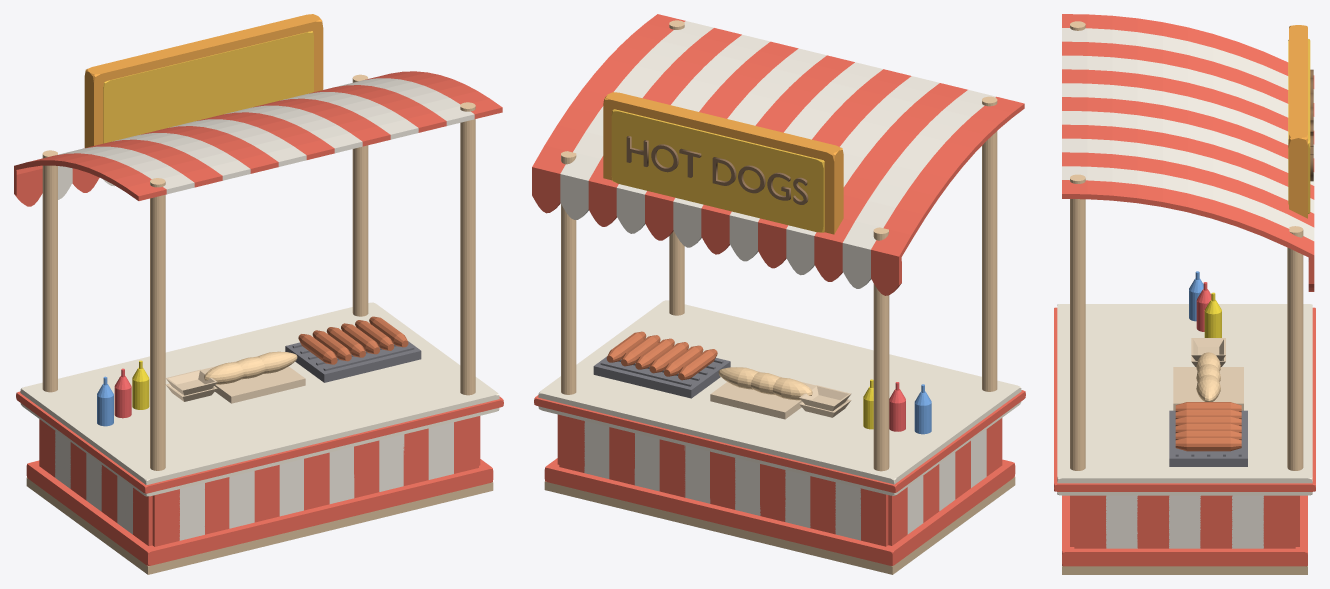
The model's file is 33-hot-dog-stand-hd11.glb.
3 renders of one model, left to right at view 1: azimuth 30°, elevation 25°; view 2: azimuth 150°, elevation 25°; view 3: azimuth 270°, elevation 25°, orthographic.
Parts seen in each view (by area): view 1: Countertop, Canopy, SignPlate, BaseTrim, SignFrame, CounterRim, Post_3, Post_2, BasePlate, Post_0, Post_1, GrillTray (+23 smaller); view 2: Canopy, Countertop, SignPlate, BaseTrim, SignFrame, CounterRim, BasePlate, Post_2, Post_0, Post_1, SignText, GrillTray (+25 smaller); view 3: Canopy, Countertop, BaseTrim, Post_3, Post_1, CounterRim, SignFrame, BasePlate, BunTray, GrillTray, Skirt_right_0, Skirt_right_2 (+16 smaller).
Part boxes in pixels (left/top/right/bottom): Countertop: left=20, top=302, right=499, bottom=496; Canopy: left=14, top=71, right=502, bottom=206; SignPlate: left=103, top=31, right=313, bottom=143; BaseTrim: left=26, top=459, right=493, bottom=565; SignFrame: left=84, top=14, right=323, bottom=147; CounterRim: left=16, top=391, right=503, bottom=493; Post_3: left=460, top=102, right=475, bottom=395; Post_2: left=150, top=178, right=165, bottom=470; BasePlate: left=26, top=478, right=493, bottom=574; Post_0: left=42, top=150, right=57, bottom=392; Post_1: left=352, top=74, right=368, bottom=316; GrillTray: left=285, top=341, right=421, bottom=382; Canopy: left=532, top=14, right=1024, bottom=295; Countertop: left=538, top=300, right=1021, bottom=495; SignPlate: left=611, top=109, right=824, bottom=232; BaseTrim: left=544, top=458, right=1015, bottom=565; SignFrame: left=603, top=92, right=843, bottom=234; CounterRim: left=534, top=390, right=1025, bottom=492; BasePlate: left=544, top=477, right=1015, bottom=574; Post_2: left=982, top=96, right=997, bottom=391; Post_0: left=873, top=227, right=889, bottom=471; Post_1: left=561, top=151, right=576, bottom=394; SignText: left=626, top=136, right=808, bottom=204; GrillTray: left=593, top=356, right=730, bottom=398; Canopy: left=1062, top=14, right=1314, bottom=291; Countertop: left=1057, top=304, right=1312, bottom=495; BaseTrim: left=1062, top=495, right=1307, bottom=566; Post_3: left=1070, top=174, right=1085, bottom=470; Post_1: left=1287, top=226, right=1303, bottom=470; CounterRim: left=1054, top=307, right=1315, bottom=491; SignFrame: left=1289, top=25, right=1307, bottom=218; BasePlate: left=1062, top=566, right=1307, bottom=574; BunTray: left=1173, top=367, right=1243, bottom=410; GrillTray: left=1169, top=410, right=1247, bottom=466; Skirt_right_0: left=1263, top=495, right=1295, bottom=548; Skirt_right_2: left=1200, top=495, right=1232, bottom=548.
Size of the model in its own units: 2.7 by 2.86 by 1.66.
